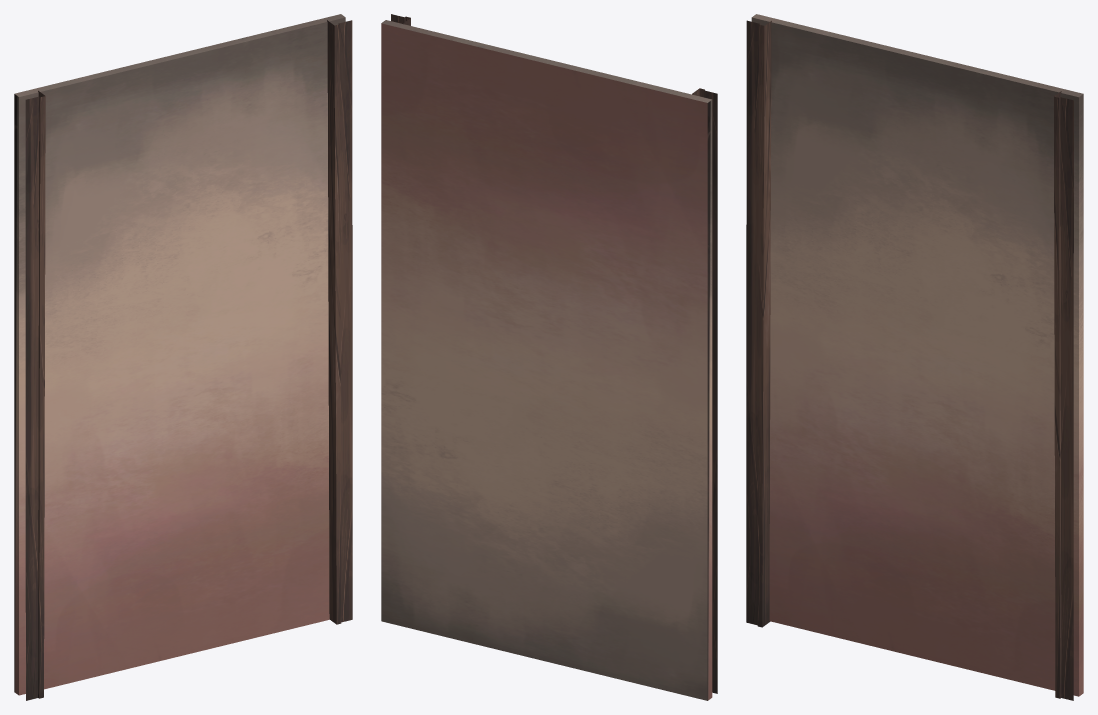
File: Wall_Mid_Straight_V1.fbx
3 views of the same model, side by side, from view 1: azimuth 30°, elevation 25°; view 2: azimuth 150°, elevation 25°; view 3: azimuth 330°, elevation 25° (orthographic).
Visible parts, largest first — view 1: Straight_Wall_Mid; view 2: Straight_Wall_Mid; view 3: Straight_Wall_Mid.
Boxes of the visible parts, left/top/right/bottom form: Straight_Wall_Mid: left=14, top=14, right=352, bottom=700; Straight_Wall_Mid: left=381, top=14, right=717, bottom=700; Straight_Wall_Mid: left=746, top=14, right=1083, bottom=700.
Bounding box in the file's own units: 0.0241 × 0.0422 × 0.00152.
